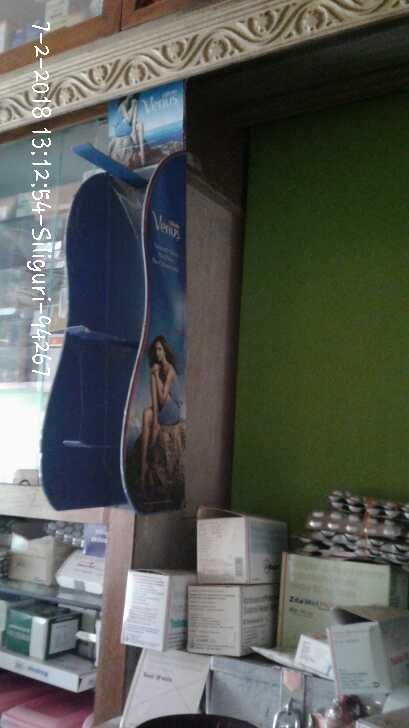reject: (150, 298, 227, 378)
